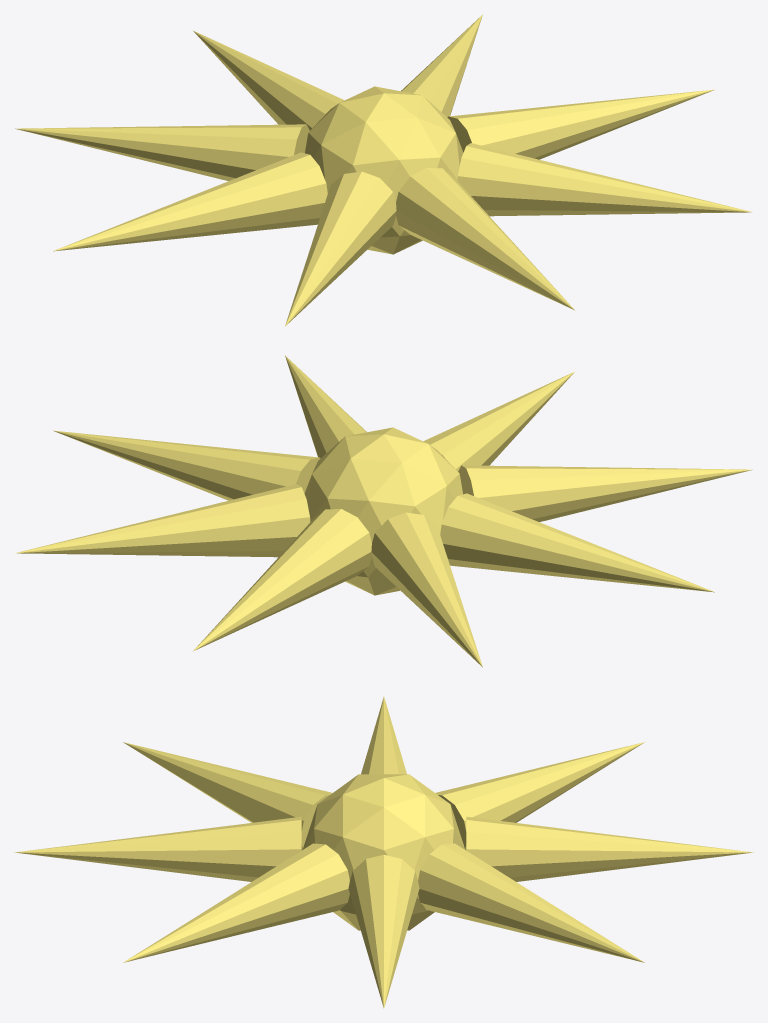
File: critical-hit-burst.glb
3 renders of one model, top to bottom at view 1: azimuth 30°, elevation 25°; view 2: azimuth 150°, elevation 25°; view 3: azimuth 270°, elevation 25°, orthographic. The views are drawn at different scales.
Visible parts, largest first — view 1: critical-core, critical-spike-4, critical-spike-7, critical-spike-3, critical-spike-6, critical-spike-0, critical-spike-5, critical-spike-2, critical-spike-1; view 2: critical-core, critical-spike-4, critical-spike-1, critical-spike-5, critical-spike-2, critical-spike-0, critical-spike-3, critical-spike-6, critical-spike-7; view 3: critical-core, critical-spike-2, critical-spike-6, critical-spike-1, critical-spike-7, critical-spike-0, critical-spike-3, critical-spike-5, critical-spike-4.
Part boxes in pixels (<box>): critical-core: <box>305,86,463,254</box>; critical-spike-4: <box>53,152,327,251</box>; critical-spike-7: <box>457,143,752,216</box>; critical-spike-3: <box>15,124,309,180</box>; critical-spike-6: <box>396,168,574,310</box>; critical-spike-0: <box>447,89,714,159</box>; critical-spike-5: <box>285,171,396,326</box>; critical-spike-2: <box>193,30,344,130</box>; critical-spike-1: <box>401,14,482,117</box>; critical-core: <box>304,427,462,595</box>; critical-spike-4: <box>440,493,714,592</box>; critical-spike-1: <box>15,484,310,557</box>; critical-spike-5: <box>458,465,752,521</box>; critical-spike-2: <box>193,509,371,651</box>; critical-spike-0: <box>53,430,320,500</box>; critical-spike-3: <box>371,512,482,667</box>; critical-spike-6: <box>423,371,574,471</box>; critical-spike-7: <box>285,355,366,458</box>; critical-core: <box>302,774,465,930</box>; critical-spike-2: <box>466,816,753,881</box>; critical-spike-6: <box>14,816,301,881</box>; critical-spike-1: <box>418,843,644,962</box>; critical-spike-7: <box>123,843,349,962</box>; critical-spike-0: <box>348,854,419,1007</box>; critical-spike-3: <box>435,742,644,850</box>; critical-spike-5: <box>123,742,332,850</box>; critical-spike-4: <box>361,697,406,774</box>.
Size of the model in its own units: 0.72 by 0.16 by 0.72.
